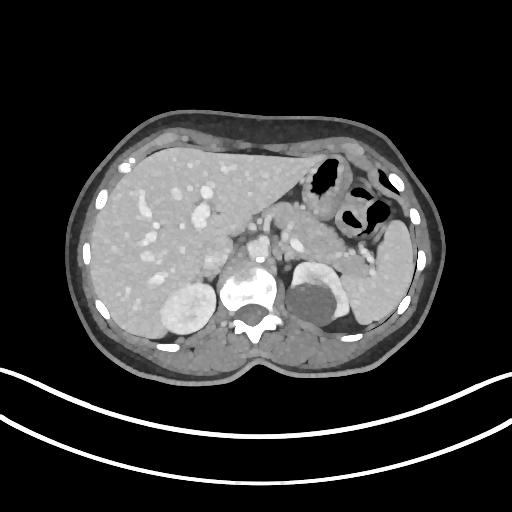Lesion: (286, 277, 341, 330)
